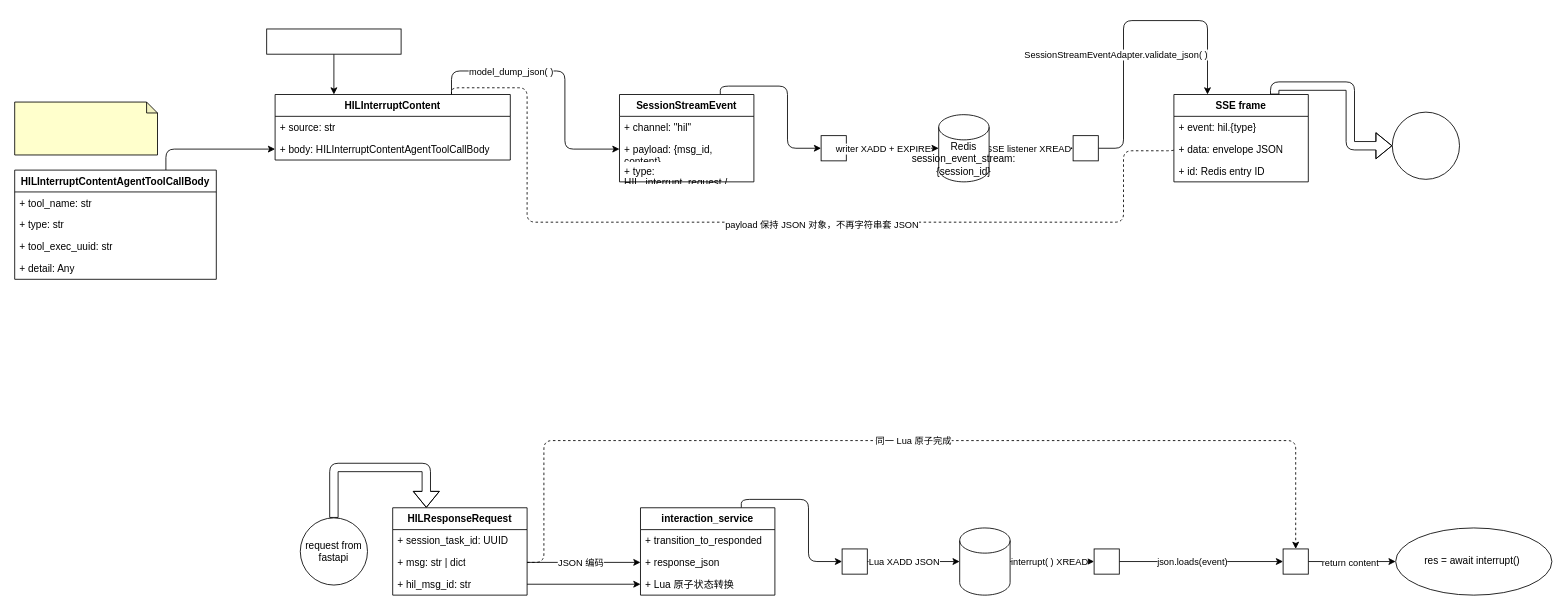
The diagram is 1567 pixels wide and 612 high, and some of its shapes have lost their labels. Each missing label, with the centre of its shape:
"HIL pending 状态与 XADD 在同一 Lua 中原子登记" belongs at (86,128).
"interrupt( ) argument" belongs at (333,41).
"Redis human_in_loop_recv_stream:{session_task_id}" belongs at (984,561).
"SSE to client" belongs at (1425,145).
